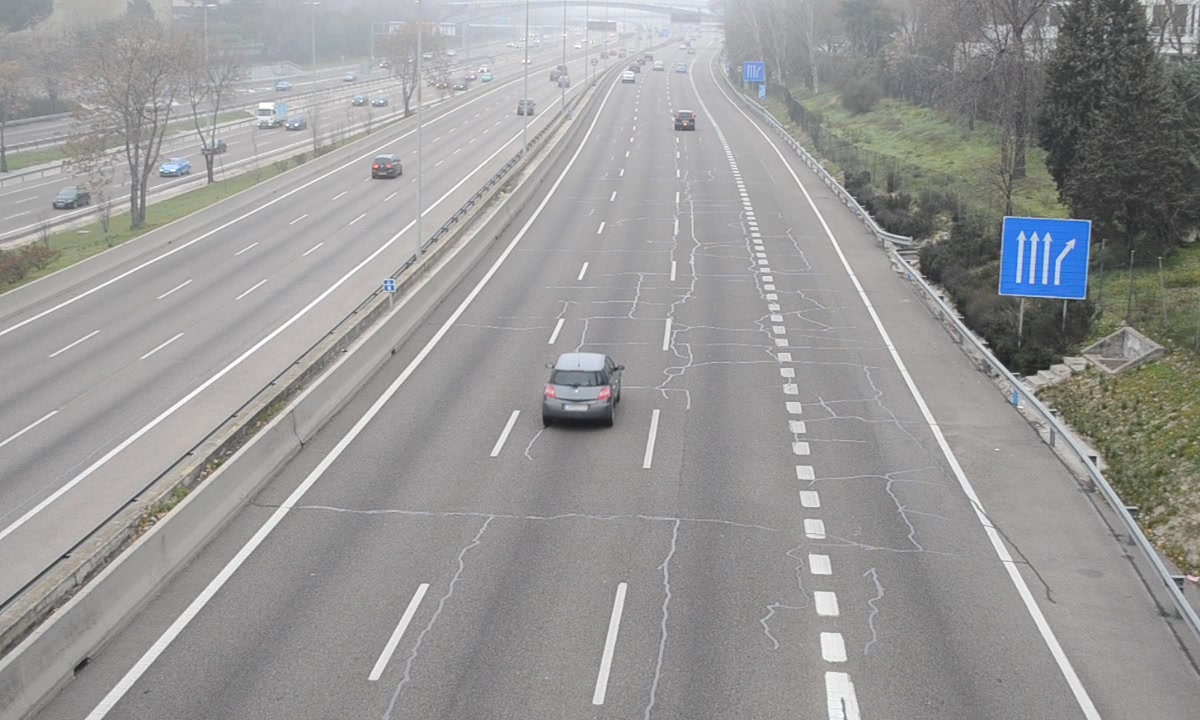car: (543, 353, 620, 424), (673, 111, 697, 133)
